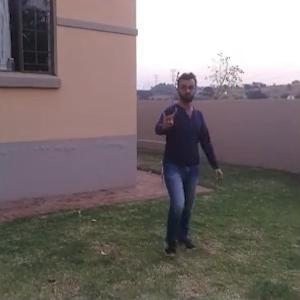takeoff-hand: (156, 104, 180, 135)
